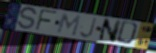D: (115, 20, 141, 47)
F: (34, 9, 58, 33)
J: (79, 17, 98, 39)
M: (56, 13, 83, 38)
N: (97, 18, 122, 44)
S: (17, 6, 38, 31)
